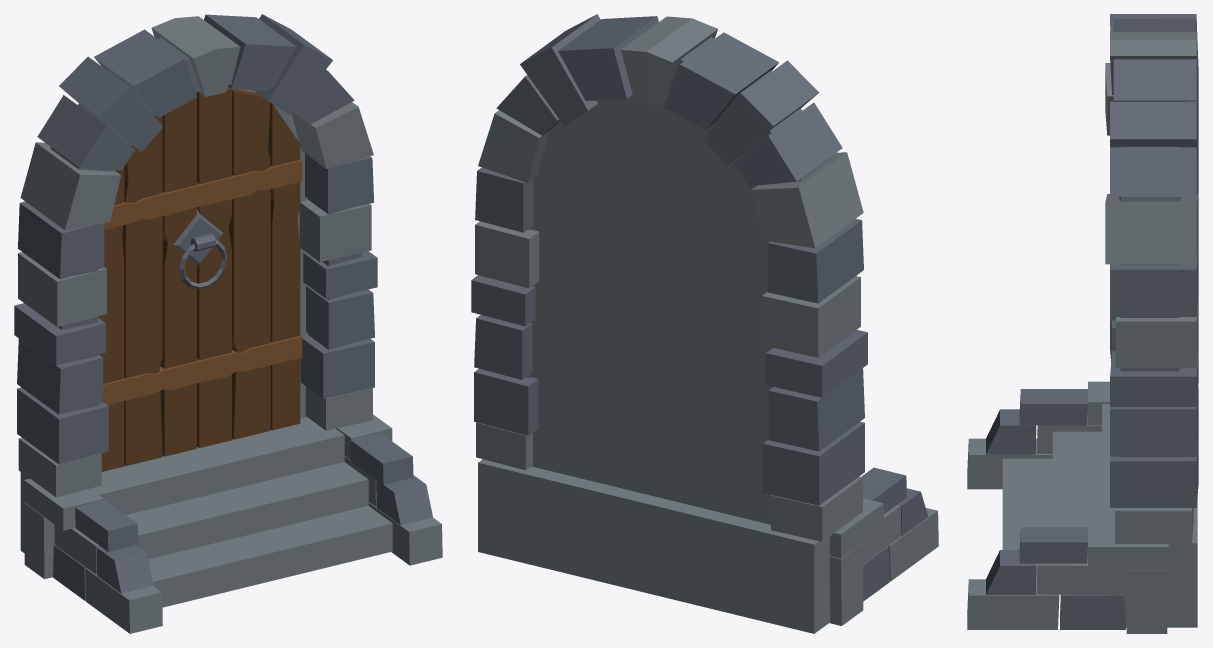
The model's file is Door_Round.gltf.
3 renders of one model, left to right at view 1: azimuth 30°, elevation 25°; view 2: azimuth 150°, elevation 25°; view 3: azimuth 270°, elevation 25°, orthographic. The views are drawn at different scales.
Visible parts, largest first — view 1: Door_Round; view 2: Door_Round; view 3: Door_Round.
Boxes of the visible parts, x1,y1,x2,y2 form: Door_Round: [14, 14, 442, 633]; Door_Round: [471, 14, 938, 633]; Door_Round: [967, 14, 1198, 633].
Size of the model in its own units: 0.5014 by 0.7226 by 0.2964.
